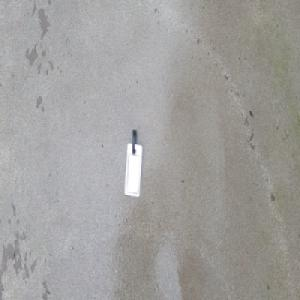LuggageTag: (123, 128, 143, 198)
